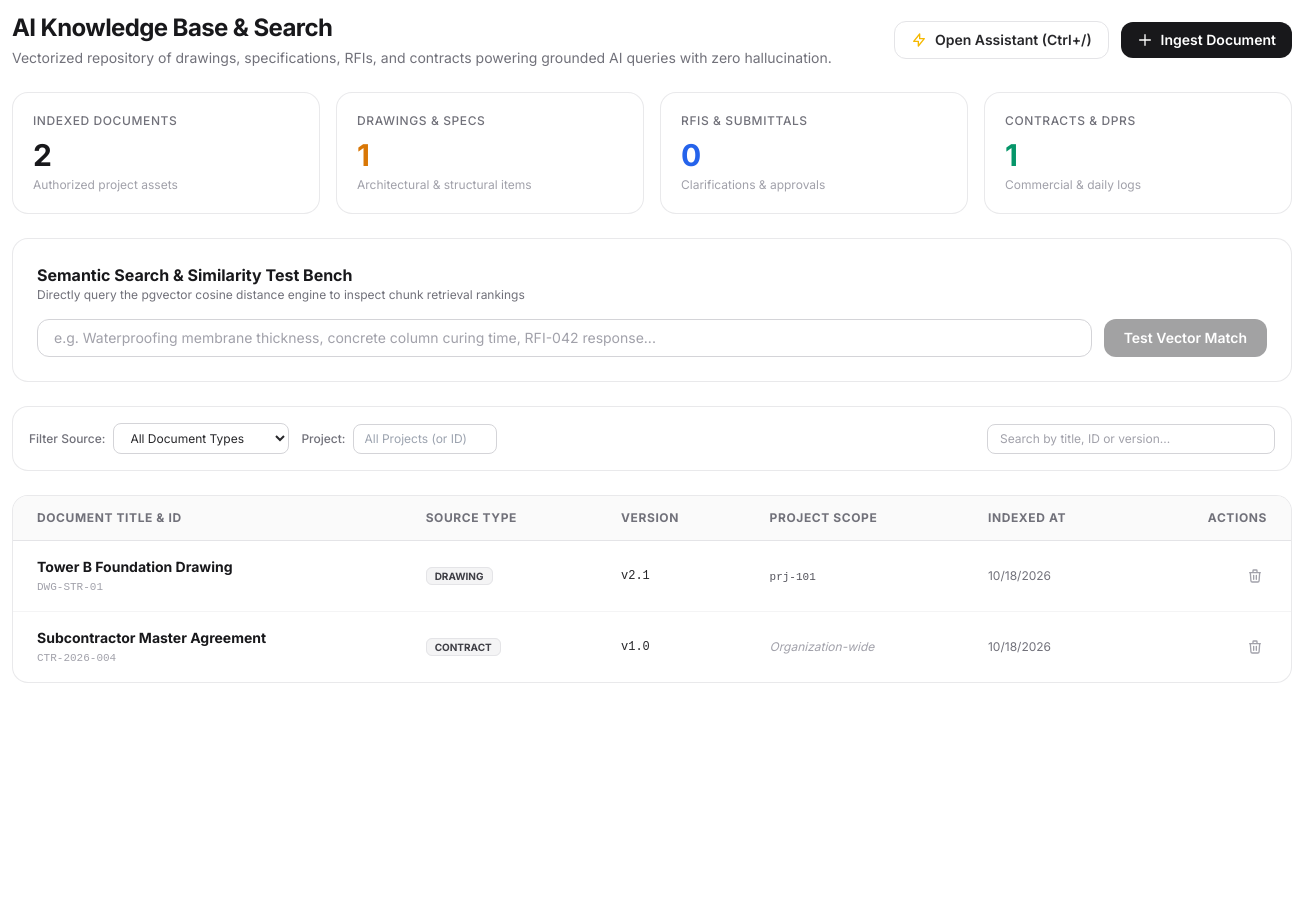
it: AiKnowledgePage (M28 Knowledge Management) › runs similarity test query on test bench
Check: the text "Tower B Foundation Drawing" is shown, box left=37, top=558, right=233, bottom=575
Type "Foundation concrete" into the field with placeholder "e.g. Waterproofing membrane thickness" at (564, 338), box left=37, top=319, right=1092, bottom=357
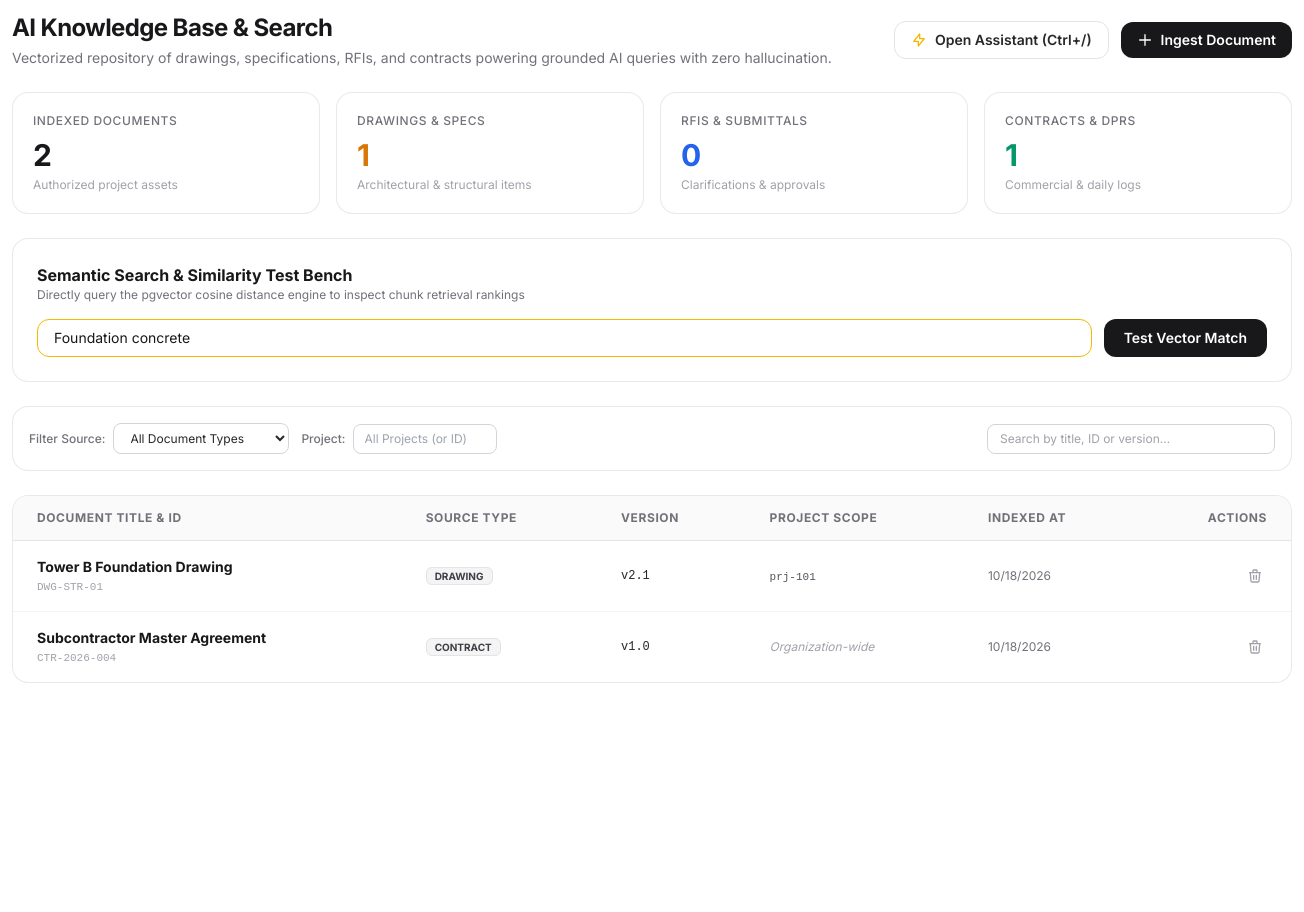
Click the button "Test Vector Match" at (1185, 338), box left=1104, top=319, right=1267, bottom=357
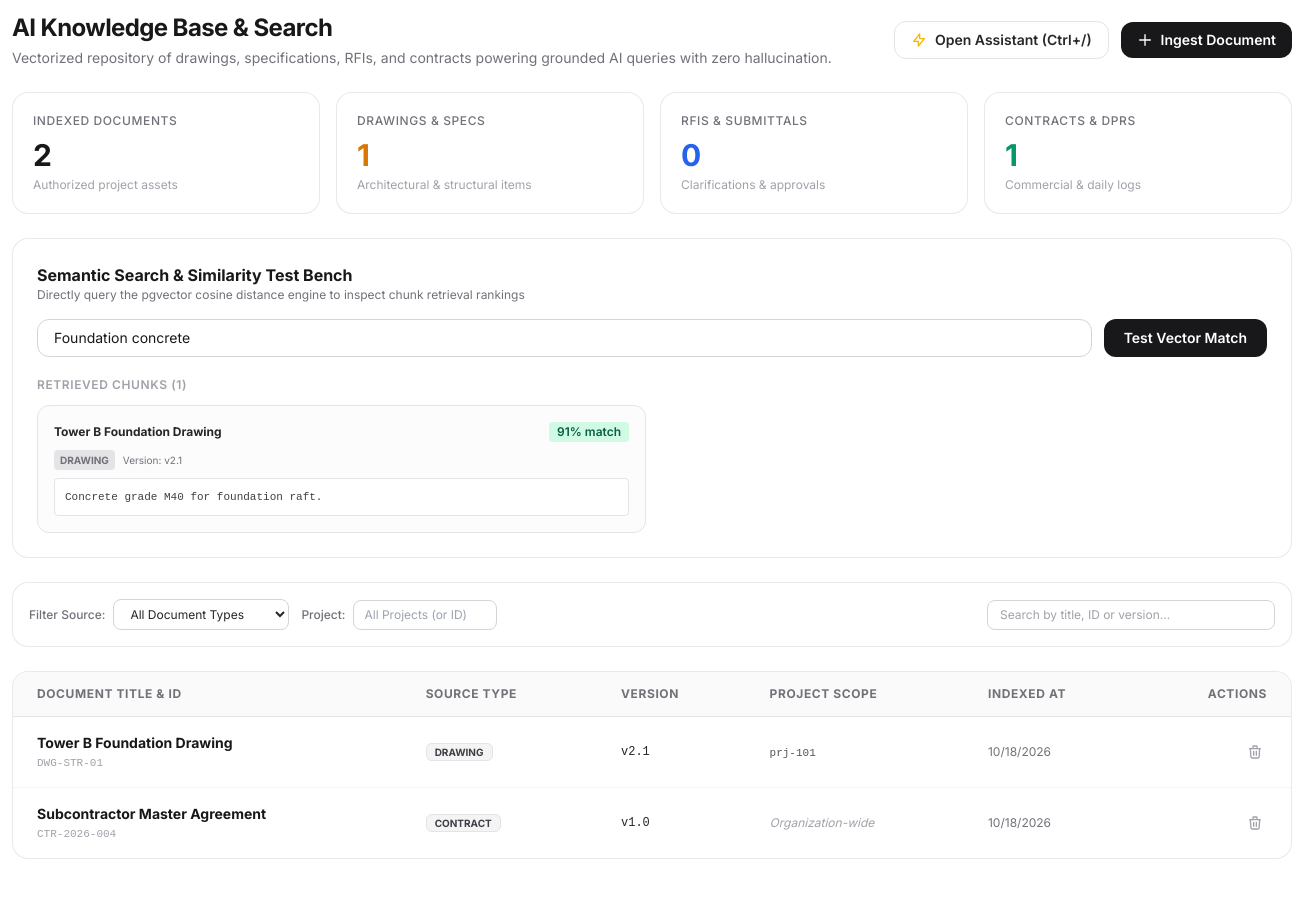
Check: the text "Retrieved Chunks (1)" is shown, box left=37, top=377, right=187, bottom=392
Check: the text "91% match" is shown, box left=549, top=422, right=629, bottom=442
Check: the text "Concrete grade M40 for foundation raft." is shown, box left=54, top=478, right=629, bottom=516
